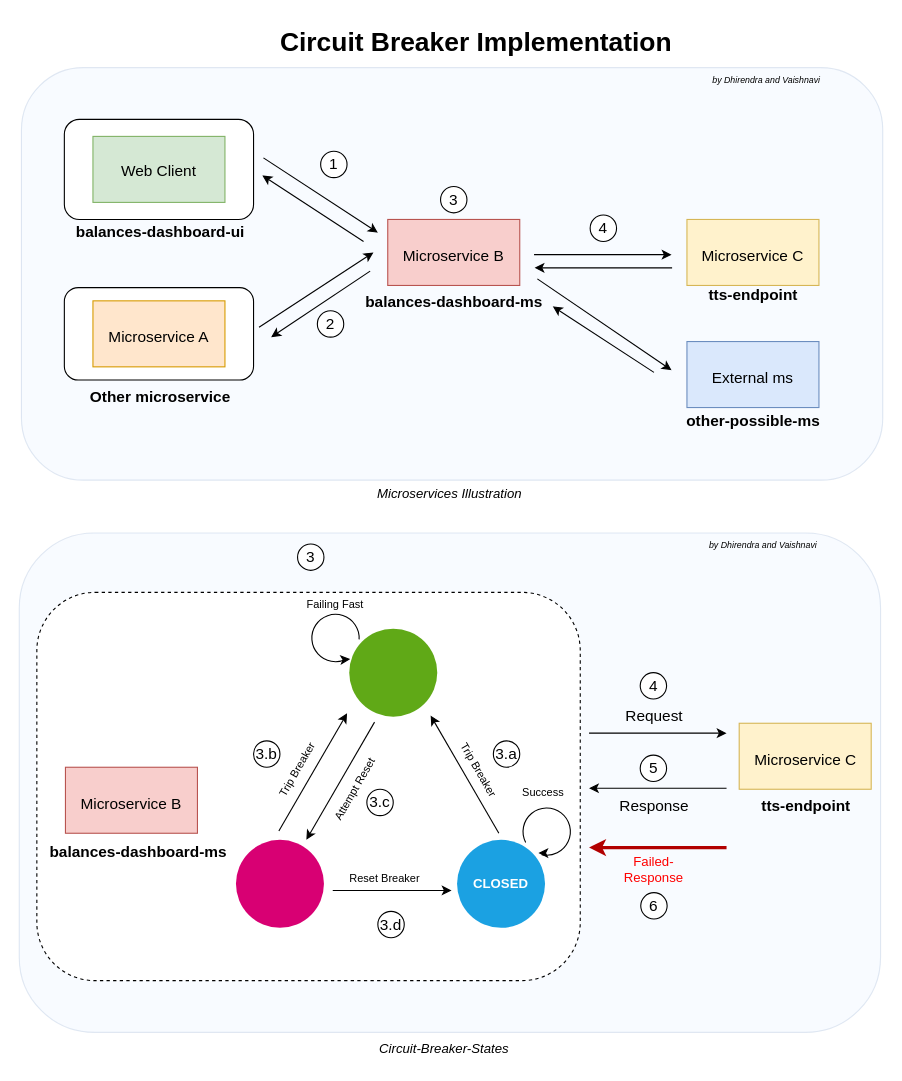
This 902x1081 diagram has some shape labels left out. Each missing label, with the centre of its shape:
"HALF OPEN" goes at (279,883).
"OPEN" goes at (393,672).
